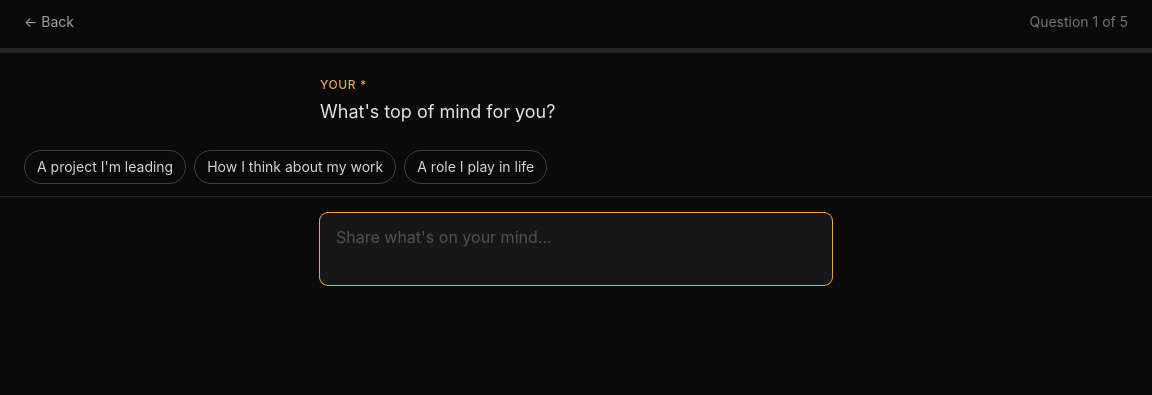
it: InterviewChat › disables input while waiting
The image size is (1152, 395).
Expected: the text "What's top of mind for you?" is shown, x1=320 y1=101 x2=556 y2=122
Type "Test" into the text box with placeholder "Share what's on your mind…" at (576, 249), box x1=320 y1=213 x2=832 y2=285
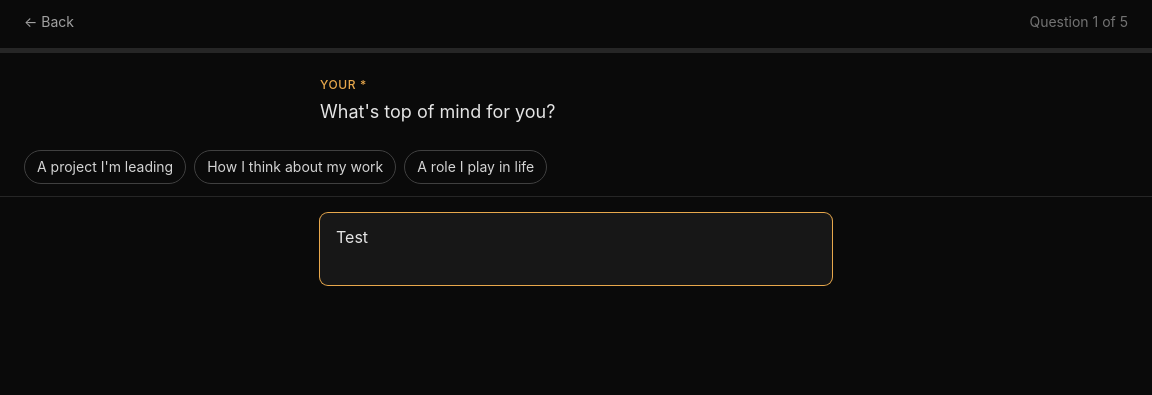
Press Enter in the text box with placeholder "Share what's on your mind…", box x1=320 y1=213 x2=832 y2=285
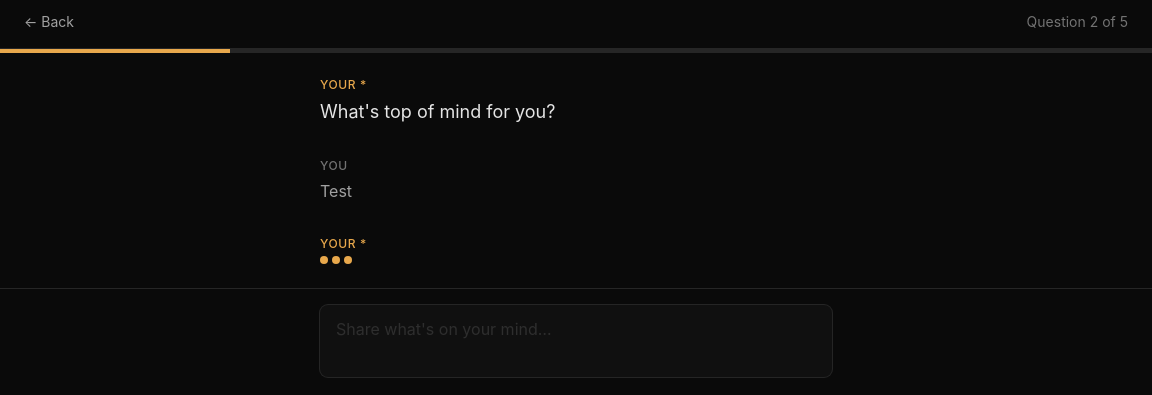
Expected: the text box with placeholder "Share what's on your mind…" is disabled, x1=320 y1=305 x2=832 y2=377
